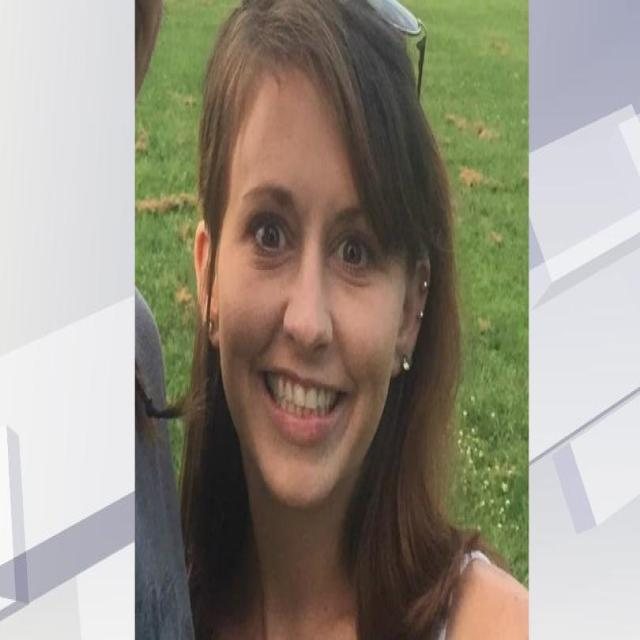human: (174, 0, 483, 640)
